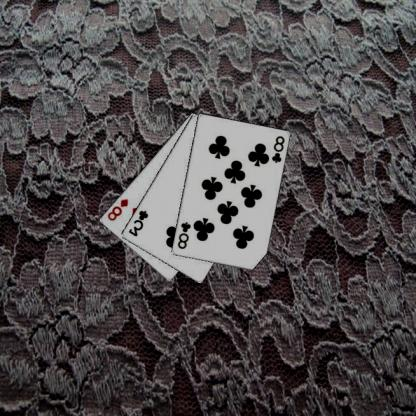3C: (127, 207, 152, 238)
8C: (176, 219, 193, 250), (271, 134, 287, 164)
8D: (106, 196, 131, 222)
